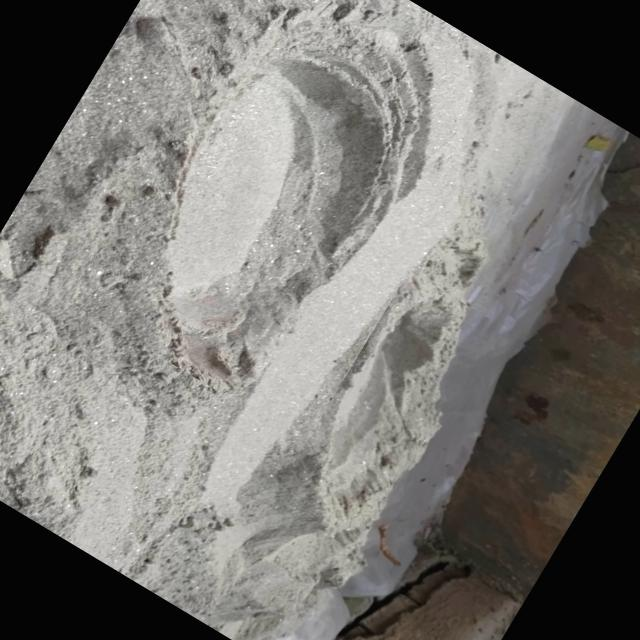C20: (166, 0, 430, 387), (307, 279, 464, 528)
